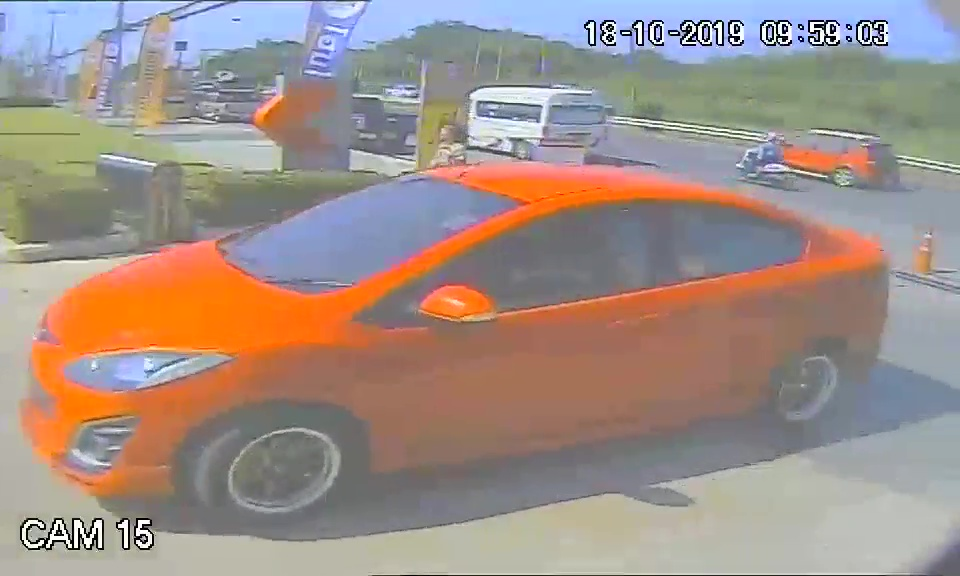sedan: (14, 158, 891, 511)
